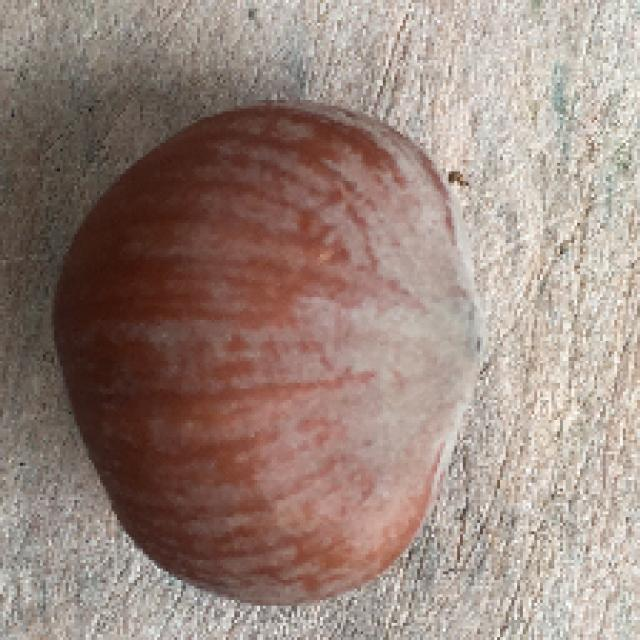qualityHazelnut: (50, 97, 488, 609)
